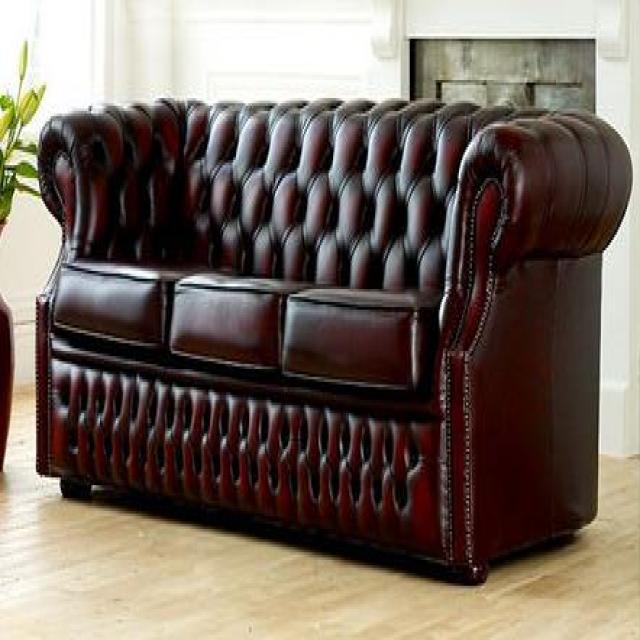sofa: (32, 92, 631, 586)
